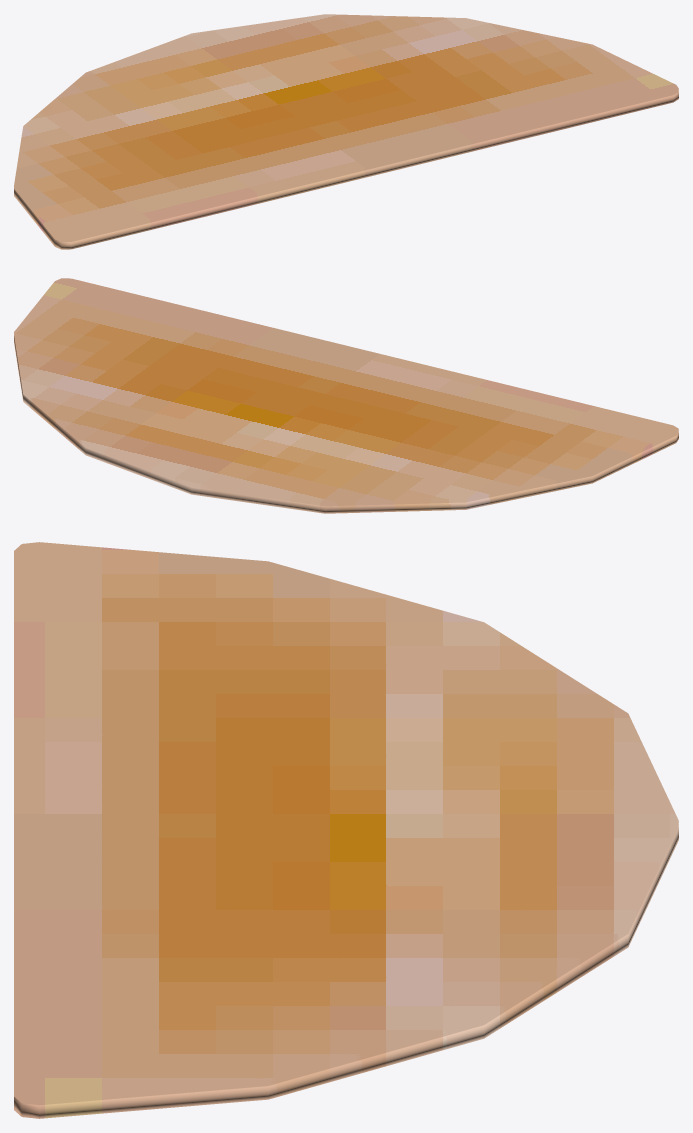
File: a_com_house_a01_mat01_halfcircle_wave.gltf
3 views of the same model, one above another, from view 1: azimuth 30°, elevation 25°; view 2: azimuth 150°, elevation 25°; view 3: azimuth 270°, elevation 25° (orthographic). The views are drawn at different scales.
Visible parts, largest first — view 1: um_a_com_house_a01_mat01_model_a_com_house_a01_mat01_modelSh (×5); view 2: um_a_com_house_a01_mat01_model_a_com_house_a01_mat01_modelSh (×5); view 3: um_a_com_house_a01_mat01_model_a_com_house_a01_mat01_modelSh (×5).
Part boxes in pixels (x1,y1,x2,y2): um_a_com_house_a01_mat01_model_a_com_house_a01_mat01_modelSh (×5): (14, 14, 678, 249); um_a_com_house_a01_mat01_model_a_com_house_a01_mat01_modelSh (×5): (14, 278, 678, 513); um_a_com_house_a01_mat01_model_a_com_house_a01_mat01_modelSh (×5): (14, 542, 678, 1118).
Size of the model in its own units: 2.02 by 0.032 by 1.02.
Materials: 5 (5 with a texture image).
